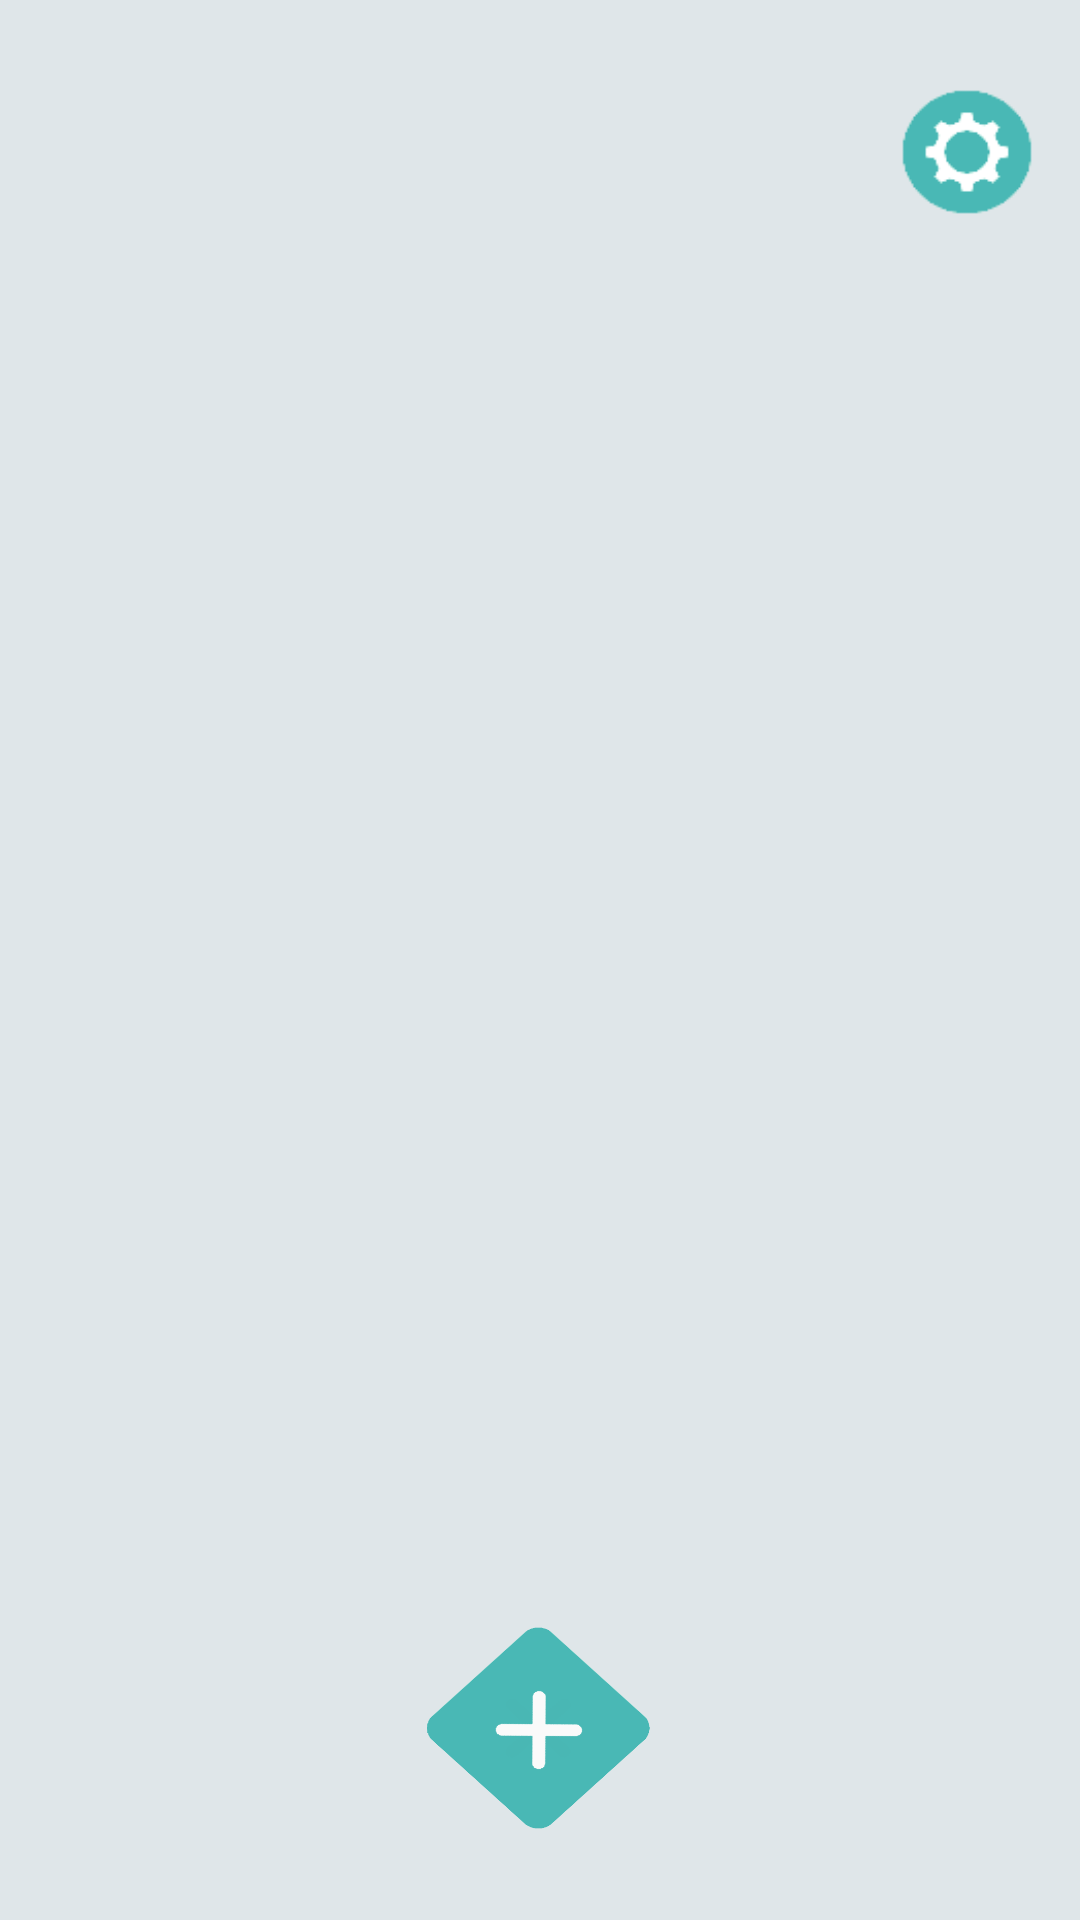

Screen size 1080 x 1920. Icon name, then its center in pixels as (x=x, y=y):
plus: (x=538, y=1728)
settingspng: (x=967, y=152)
